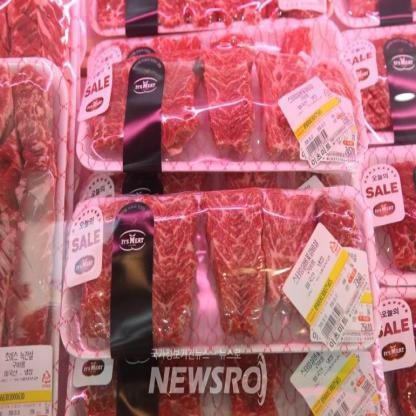beef: (202, 177, 264, 320), (190, 48, 263, 148)
